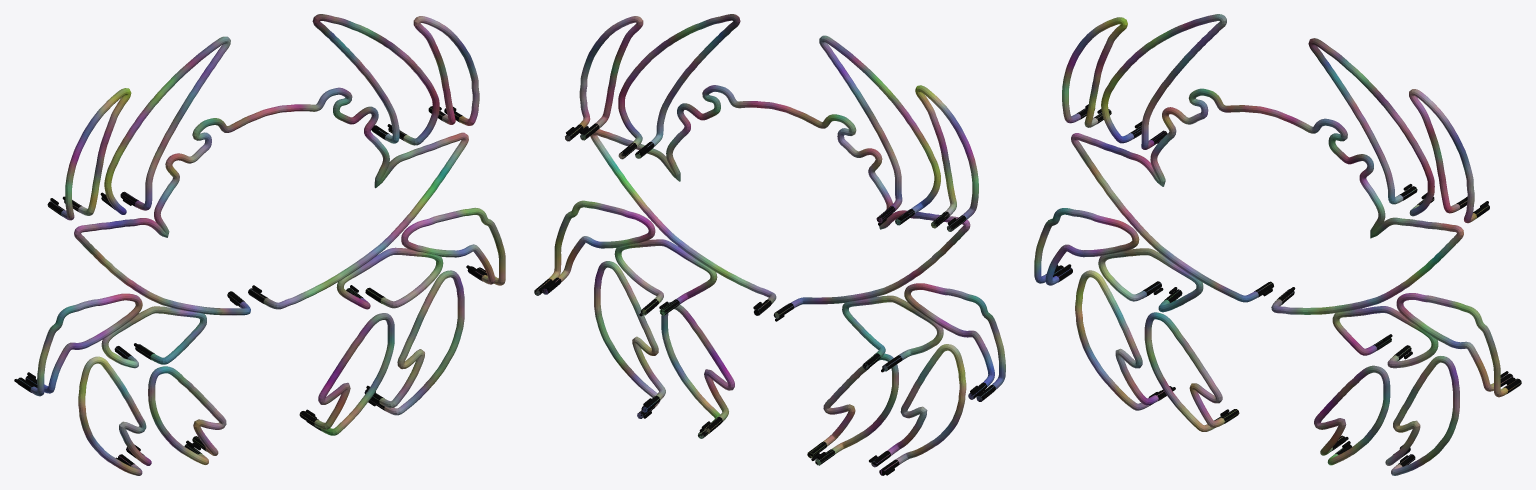
The model's file is neonsign_08.fbx.
3 renders of one model, left to right at view 1: azimuth 30°, elevation 25°; view 2: azimuth 150°, elevation 25°; view 3: azimuth 330°, elevation 25°, orthographic. The views are drawn at different scales.
Visible parts, largest first — view 1: neonsign_08; view 2: neonsign_08; view 3: neonsign_08.
Boxes of the visible parts, x1,y1,x2,y2 form: neonsign_08: (14, 14, 505, 475); neonsign_08: (534, 14, 1005, 475); neonsign_08: (1034, 14, 1521, 475).
Size of the model in its own units: 2.34 by 2.04 by 0.2088.
